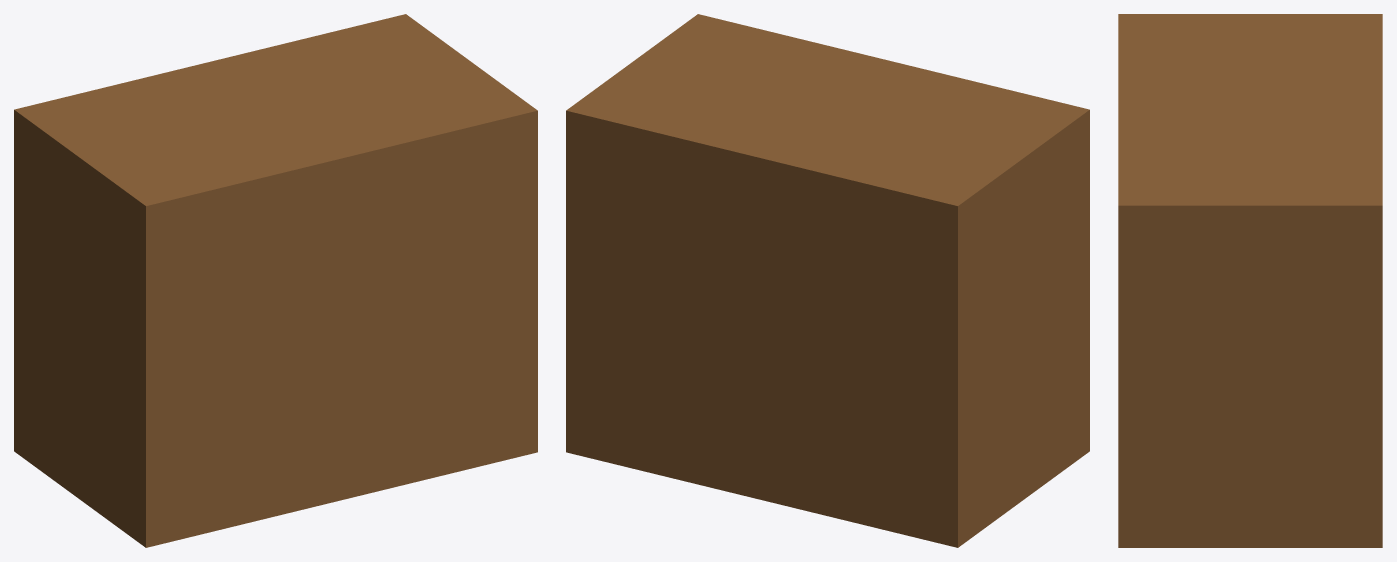
File: loot_crate.glb
3 renders of one model, left to right at view 1: azimuth 30°, elevation 25°; view 2: azimuth 150°, elevation 25°; view 3: azimuth 270°, elevation 25°, orthographic.
Visible parts, largest first — view 1: DD_Prop_LootCrate; view 2: DD_Prop_LootCrate; view 3: DD_Prop_LootCrate.
Part boxes in pixels (left/top/right/bottom): DD_Prop_LootCrate: left=14, top=14, right=537, bottom=547; DD_Prop_LootCrate: left=566, top=14, right=1089, bottom=547; DD_Prop_LootCrate: left=1118, top=14, right=1382, bottom=547.
Bounding box in the file's own units: 1.2 × 1 × 0.7.
